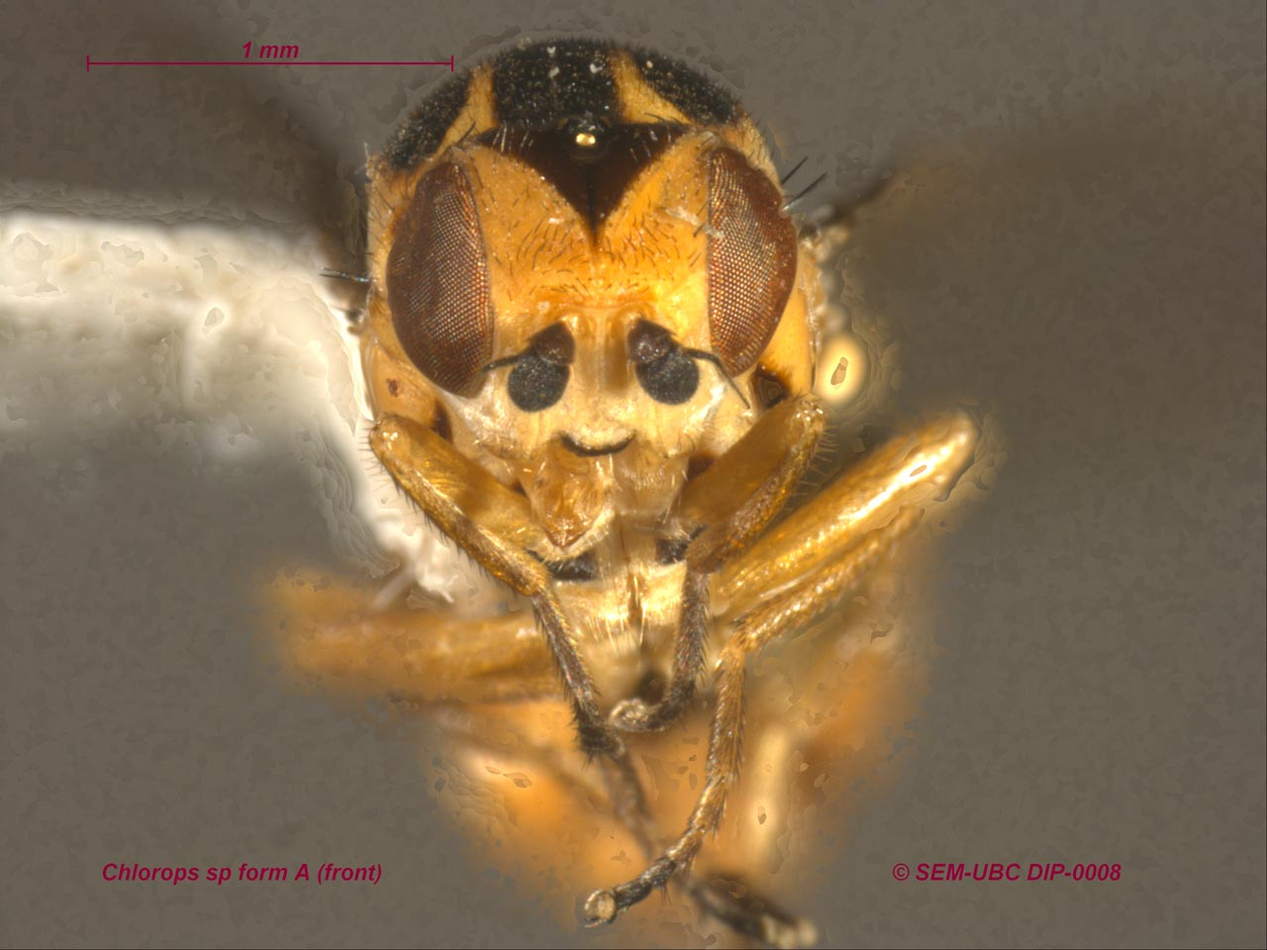Chloropidae: (328, 47, 992, 950)
